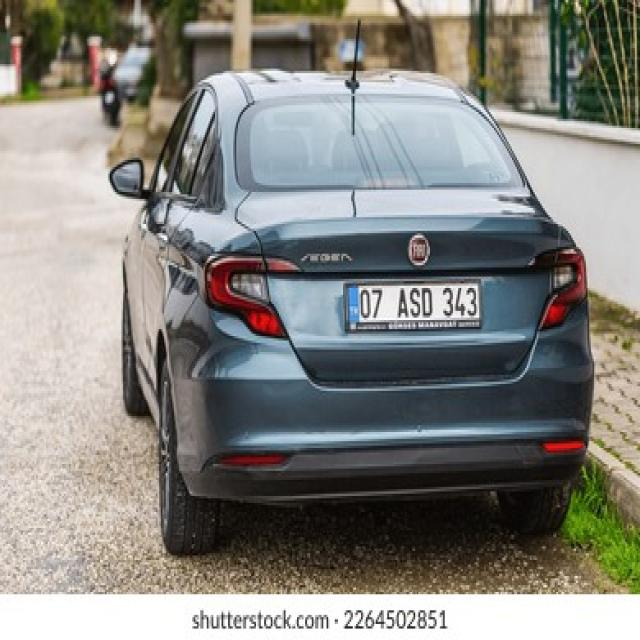fiat: (406, 232, 436, 267)
